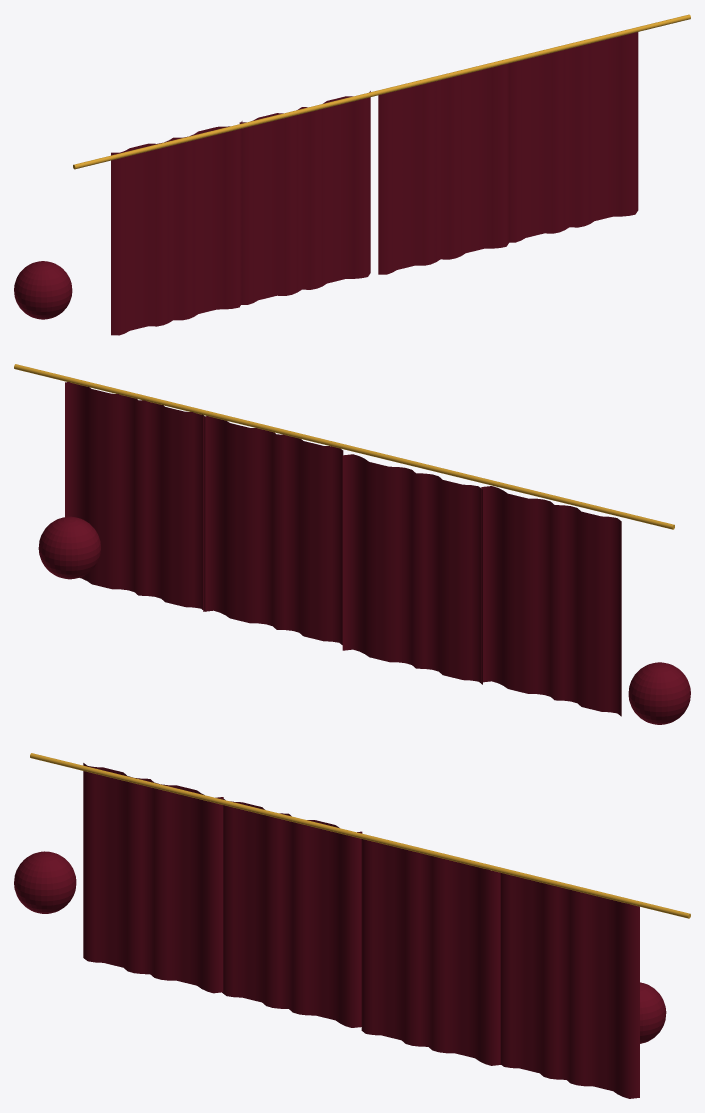
Rendered from Curtains.fbx.
3 renders of one model, top to bottom at view 1: azimuth 30°, elevation 25°; view 2: azimuth 150°, elevation 25°; view 3: azimuth 330°, elevation 25°, orthographic. The views are drawn at different scales.
Visible parts, largest first — view 1: Plane.001, Plane.004, Plane.005, Plane, Rod, Sphere.001; view 2: Plane, Plane.005, Plane.001, Plane.004, Rod, Sphere.002, Sphere.001; view 3: Plane.001, Plane.004, Plane.005, Plane, Rod, Sphere.001, Sphere.002.
Boxes of the visible parts, <box> form: Plane.001: <box>378,63,508,274</box>; Plane.004: <box>509,32,638,242</box>; Plane.005: <box>111,121,242,335</box>; Plane: <box>239,91,370,304</box>; Rod: <box>73,14,690,169</box>; Sphere.001: <box>14,261,72,319</box>; Plane: <box>342,454,482,684</box>; Plane.005: <box>481,486,621,716</box>; Plane.001: <box>203,416,343,644</box>; Plane.004: <box>65,382,205,611</box>; Rod: <box>14,364,674,529</box>; Sphere.002: <box>38,516,100,579</box>; Sphere.001: <box>628,662,690,724</box>; Plane.001: <box>361,839,500,1065</box>; Plane.004: <box>500,873,639,1098</box>; Plane.005: <box>83,763,223,993</box>; Plane: <box>222,798,362,1027</box>; Rod: <box>30,753,690,918</box>; Sphere.001: <box>14,851,76,913</box>; Sphere.002: <box>640,982,666,1043</box>.
Size of the model in its own units: 2564 by 704 by 297.
